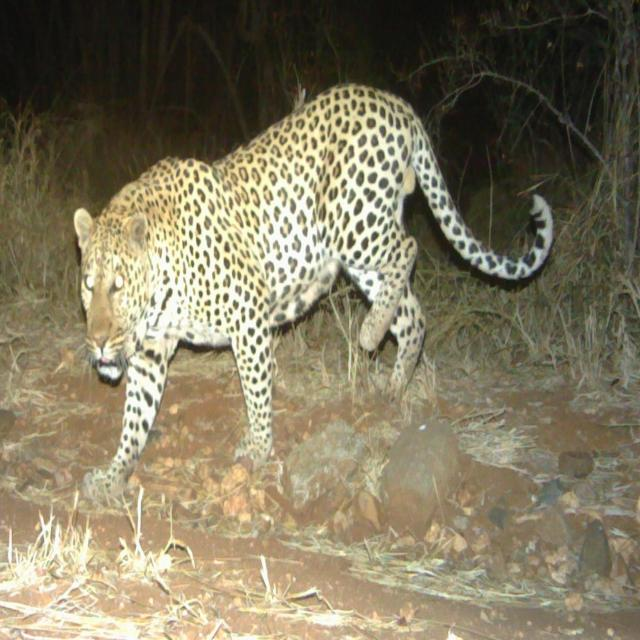Leopard: (57, 93, 553, 499)
